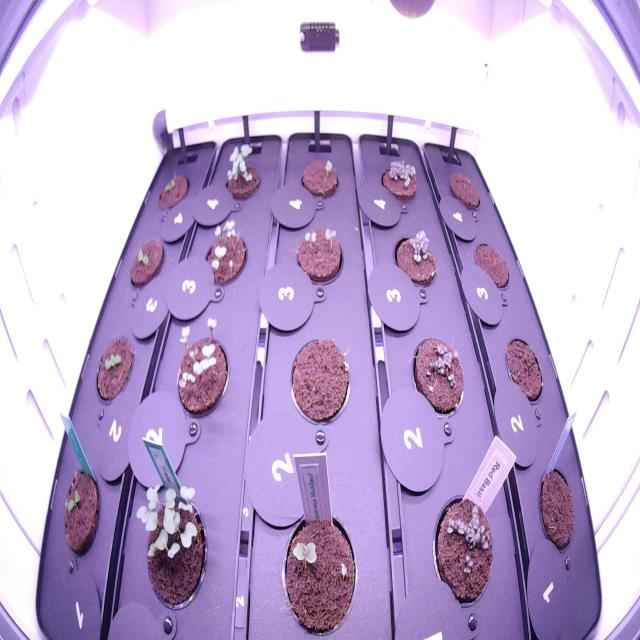germination: (272, 488, 364, 636), (130, 472, 212, 620), (429, 481, 499, 617), (165, 312, 233, 422), (406, 321, 472, 428), (58, 457, 105, 565), (384, 218, 444, 297), (196, 212, 251, 298), (88, 327, 138, 412), (293, 219, 348, 293), (222, 138, 264, 208), (374, 152, 424, 210), (124, 230, 168, 295), (294, 150, 342, 204), (153, 161, 192, 219)
pod: (279, 328, 356, 436), (536, 457, 580, 562), (498, 329, 550, 416), (468, 233, 514, 302), (442, 163, 487, 218)
